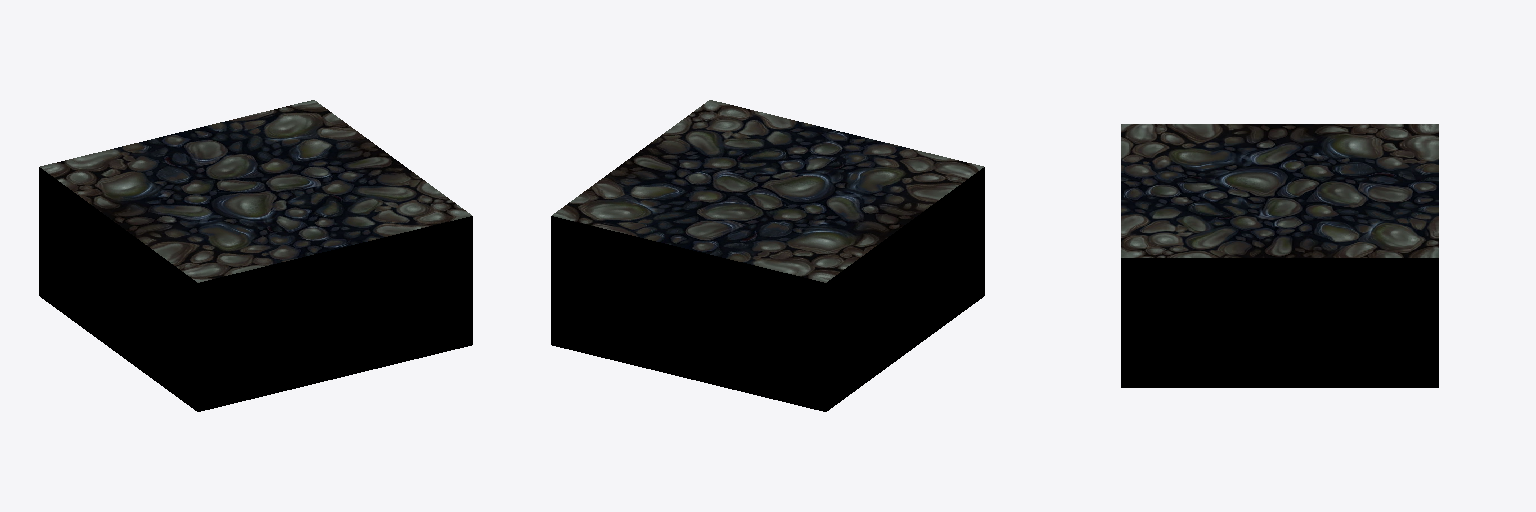
The picture shows the model from 3 angles: view 1: azimuth 30°, elevation 25°; view 2: azimuth 150°, elevation 25°; view 3: azimuth 270°, elevation 25°; orthographic projection.
Visible parts, largest first — view 1: pCube1, pPlane2; view 2: pCube1, pPlane2; view 3: pPlane2, pCube1.
Boxes of the visible parts, x1=… form: pCube1: x1=39, y1=167, x2=472, y2=411; pPlane2: x1=40, y1=100, x2=471, y2=282; pCube1: x1=551, y1=167, x2=984, y2=411; pPlane2: x1=552, y1=100, x2=983, y2=282; pPlane2: x1=1121, y1=124, x2=1438, y2=257; pCube1: x1=1121, y1=258, x2=1438, y2=387.
Bounding box in the file's own units: 200 × 90 × 200.
Materials: 5 (2 with a texture image).